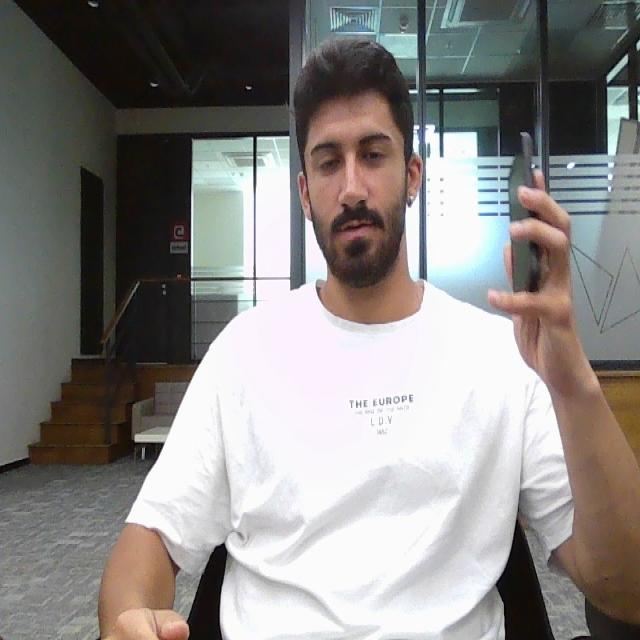phone: (509, 128, 541, 292)
